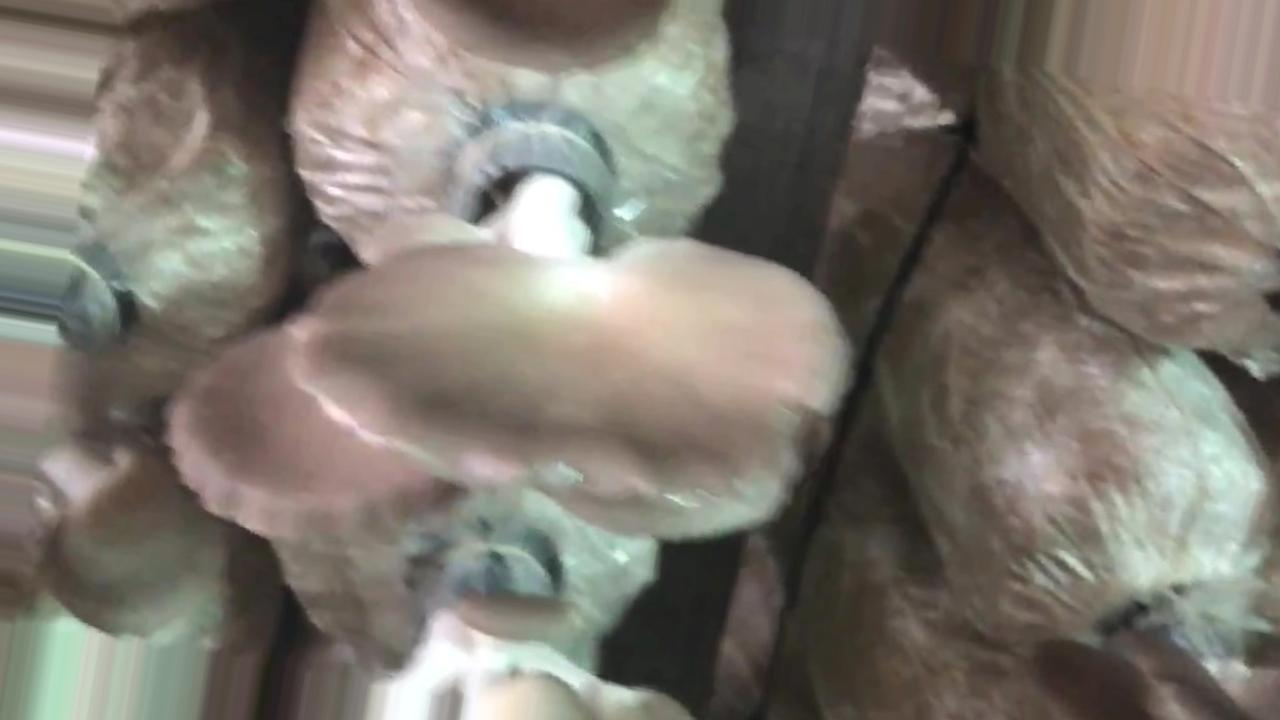nam: (281, 125, 859, 549), (161, 316, 467, 546), (349, 550, 693, 720), (412, 1, 675, 82)
